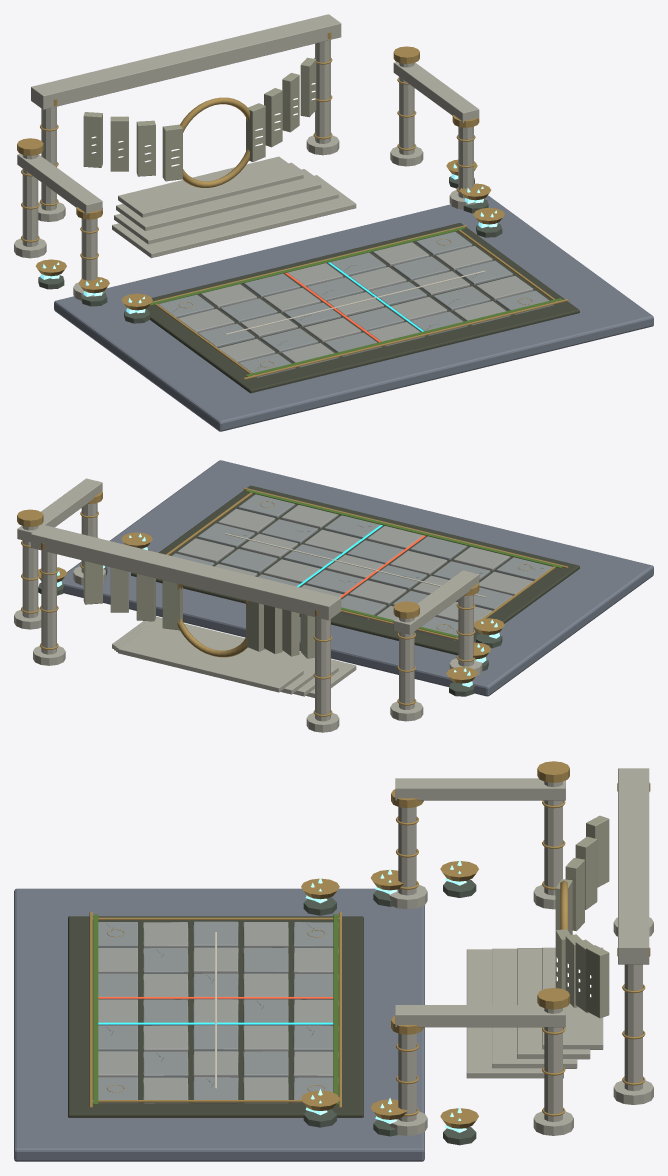
Rendered from axiom_altar.glb.
The picture shows the model from 3 angles, top to bottom: view 1: azimuth 30°, elevation 25°; view 2: azimuth 150°, elevation 25°; view 3: azimuth 270°, elevation 25°; orthographic projection. The views are drawn at different scales.
Visible parts, largest first — view 1: Architecture, BattleMeadow, ArenaTiles, ArenaBase, MovingFloat, ArenaBorders, Energy, Props, ArenaLaneLines; view 2: Architecture, BattleMeadow, ArenaTiles, ArenaBase, MovingFloat, ArenaBorders, Props, Energy, ArenaLaneLines; view 3: BattleMeadow, Architecture, ArenaTiles, ArenaBase, MovingFloat, ArenaBorders, Props, Energy, ArenaLaneLines.
Boxes of the visible parts, bbox=[...] form: Architecture: bbox=[14, 14, 479, 300]; BattleMeadow: bbox=[54, 195, 653, 431]; ArenaTiles: bbox=[158, 231, 553, 378]; ArenaBase: bbox=[145, 223, 579, 393]; MovingFloat: bbox=[83, 57, 316, 181]; ArenaBorders: bbox=[149, 225, 568, 379]; Energy: bbox=[38, 83, 502, 323]; Props: bbox=[35, 159, 504, 310]; ArenaLaneLines: bbox=[225, 262, 485, 342]; Architecture: bbox=[14, 478, 482, 732]; BattleMeadow: bbox=[61, 460, 653, 696]; ArenaTiles: bbox=[172, 494, 552, 640]; ArenaBase: bbox=[131, 485, 579, 655]; MovingFloat: bbox=[83, 561, 314, 658]; ArenaBorders: bbox=[166, 487, 568, 640]; Props: bbox=[38, 532, 504, 683]; Energy: bbox=[38, 533, 502, 696]; ArenaLaneLines: bbox=[225, 525, 485, 597]; BattleMeadow: bbox=[14, 888, 424, 1161]; Architecture: bbox=[387, 761, 653, 1135]; ArenaTiles: bbox=[98, 921, 338, 1103]; ArenaBase: bbox=[68, 916, 363, 1117]; MovingFloat: bbox=[555, 815, 609, 1018]; ArenaBorders: bbox=[89, 912, 341, 1108]; Props: bbox=[301, 861, 478, 1128]; Energy: bbox=[303, 859, 591, 1145]; ArenaLaneLines: bbox=[98, 932, 333, 1088].
Size of what is drawn, in the model's own units: 17.92 by 5.52 by 18.38.
